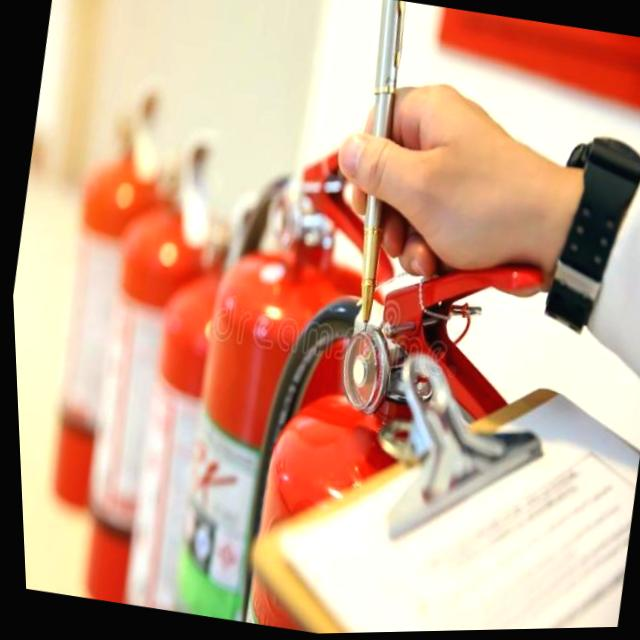FireExtinguisher: (135, 104, 480, 638), (209, 212, 572, 636)
